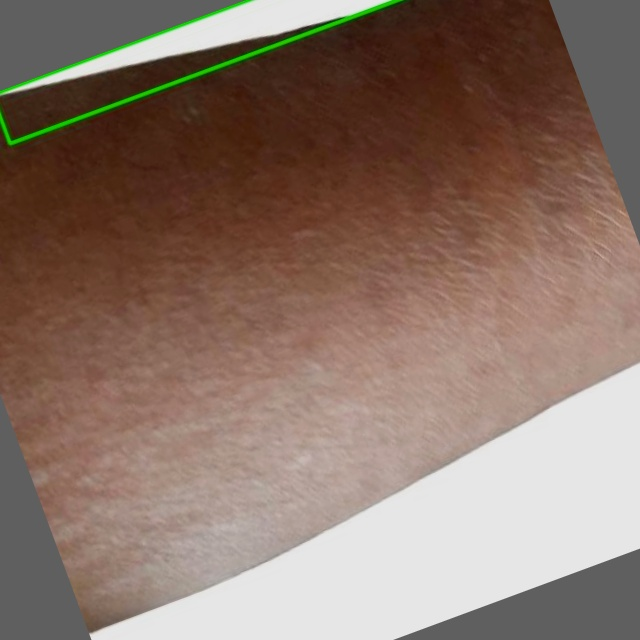Tinea Corporis: (0, 0, 397, 144)
